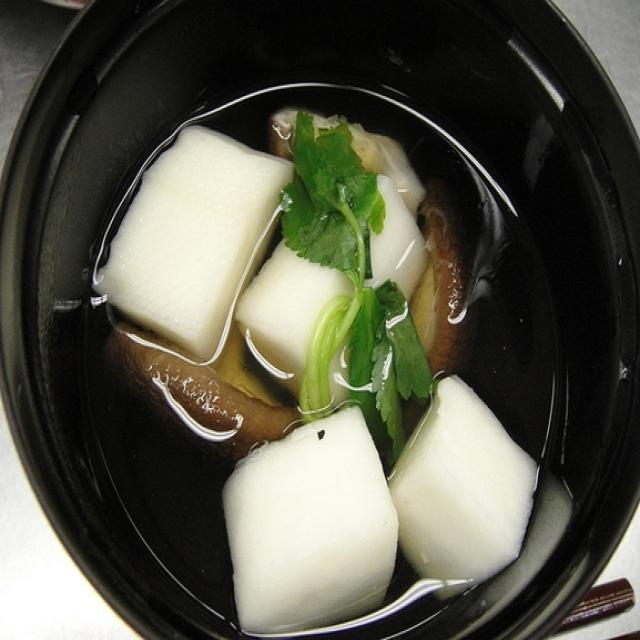汤锅炖物: (71, 77, 583, 618)
